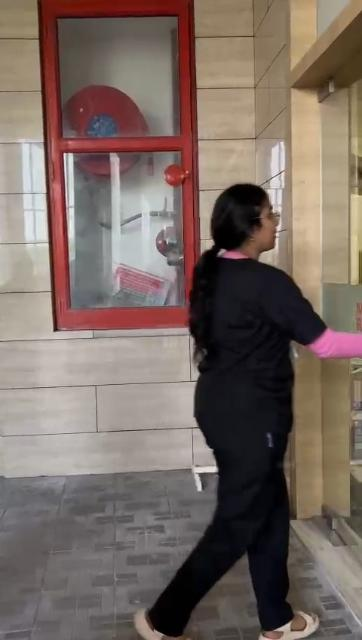floor: (0, 479, 140, 637)
moving-obj: (148, 202, 362, 618)
wall: (0, 2, 188, 471), (194, 3, 318, 192)
